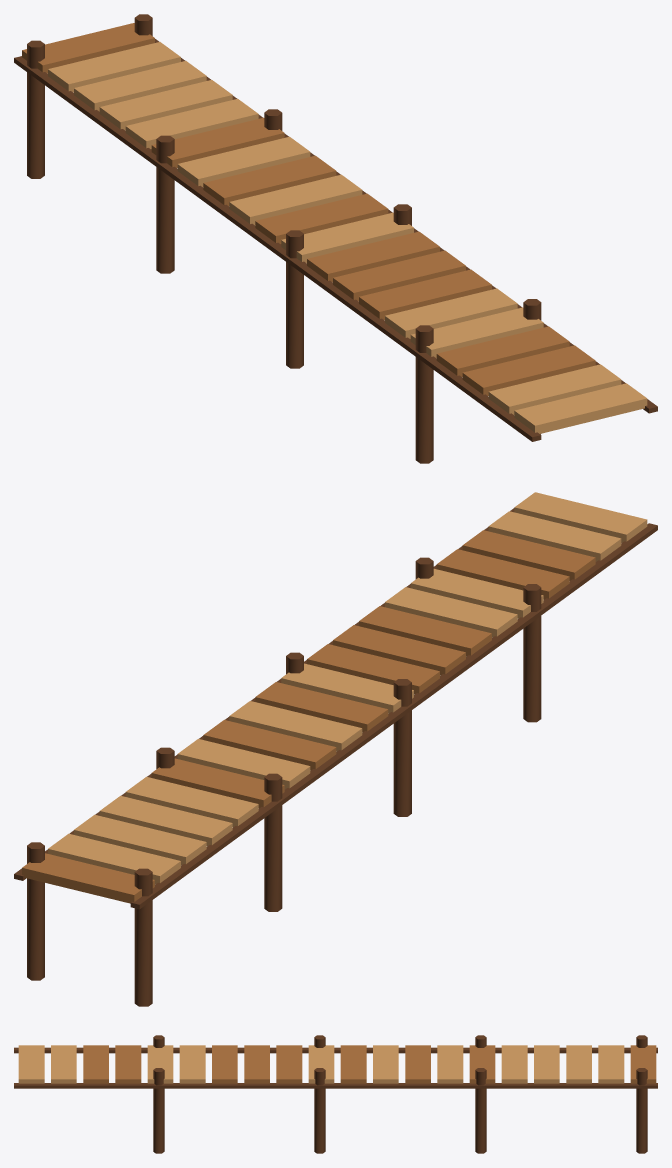
The model's file is pier.obj.
3 renders of one model, top to bottom at view 1: azimuth 30°, elevation 25°; view 2: azimuth 150°, elevation 25°; view 3: azimuth 270°, elevation 25°, orthographic. The views are drawn at different scales.
Parts seen in each view (by area): view 1: pier_wood_light, pier_wood_mid, pier_wood_dark; view 2: pier_wood_light, pier_wood_mid, pier_wood_dark; view 3: pier_wood_light, pier_wood_dark, pier_wood_mid.
Boxes of the visible parts, x1,y1,x2,y2 form: pier_wood_light: (48,42,647,433); pier_wood_mid: (22,23,595,395); pier_wood_dark: (14,14,657,463); pier_wood_light: (48,492,647,884); pier_wood_mid: (22,530,595,903); pier_wood_dark: (14,508,657,1006); pier_wood_light: (18,1045,624,1083); pier_wood_dark: (14,1035,657,1153); pier_wood_mid: (83,1045,656,1083).
Size of the model in its own units: 1.12 by 1.12 by 8.
